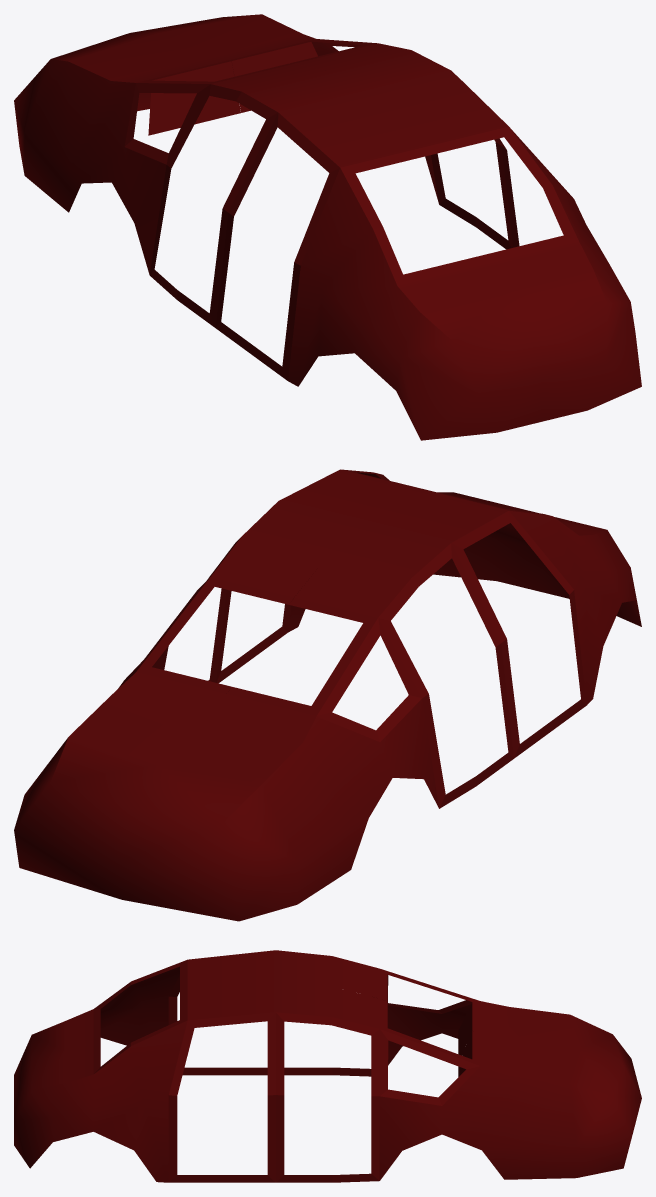
The model's file is Car Body 4.fbx.
3 renders of one model, top to bottom at view 1: azimuth 30°, elevation 25°; view 2: azimuth 150°, elevation 25°; view 3: azimuth 270°, elevation 25°, orthographic. The views are drawn at different scales.
Visible parts, largest first — view 1: Body; view 2: Body; view 3: Body.
Part boxes in pixels (bbox=[...]): Body: bbox=[14, 14, 641, 440]; Body: bbox=[14, 469, 641, 921]; Body: bbox=[14, 950, 641, 1182].
Bounding box in the file's own units: 1486 × 952 × 3667.
